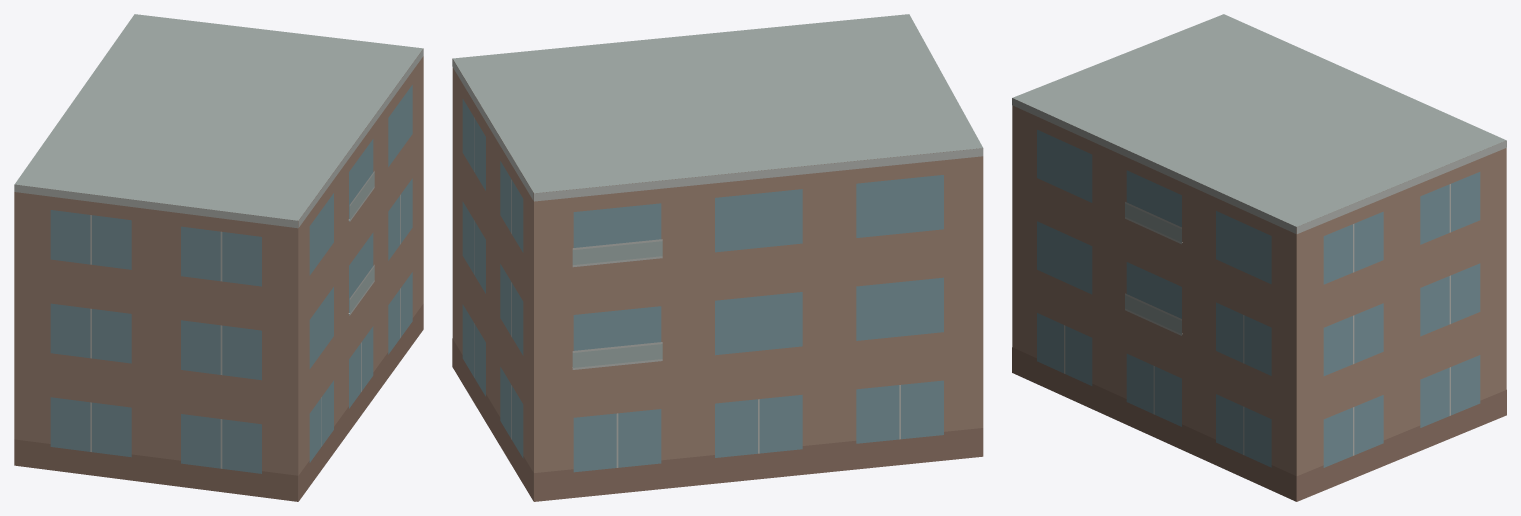
The model's file is survey-upis-32687674.glb.
3 views of the same model, side by side, from view 1: azimuth 30°, elevation 25°; view 2: azimuth 150°, elevation 25°; view 3: azimuth 270°, elevation 25° (orthographic). The views are drawn at different scales.
Visible parts, largest first — view 1: survey-upis-32687674.tmp; view 2: survey-upis-32687674.tmp; view 3: survey-upis-32687674.tmp.
Part boxes in pixels (<box>): survey-upis-32687674.tmp: <box>14,14,423,501</box>; survey-upis-32687674.tmp: <box>452,14,983,501</box>; survey-upis-32687674.tmp: <box>1012,14,1506,501</box>.
Size of the model in its own units: 15.21 by 9.15 by 14.93.
